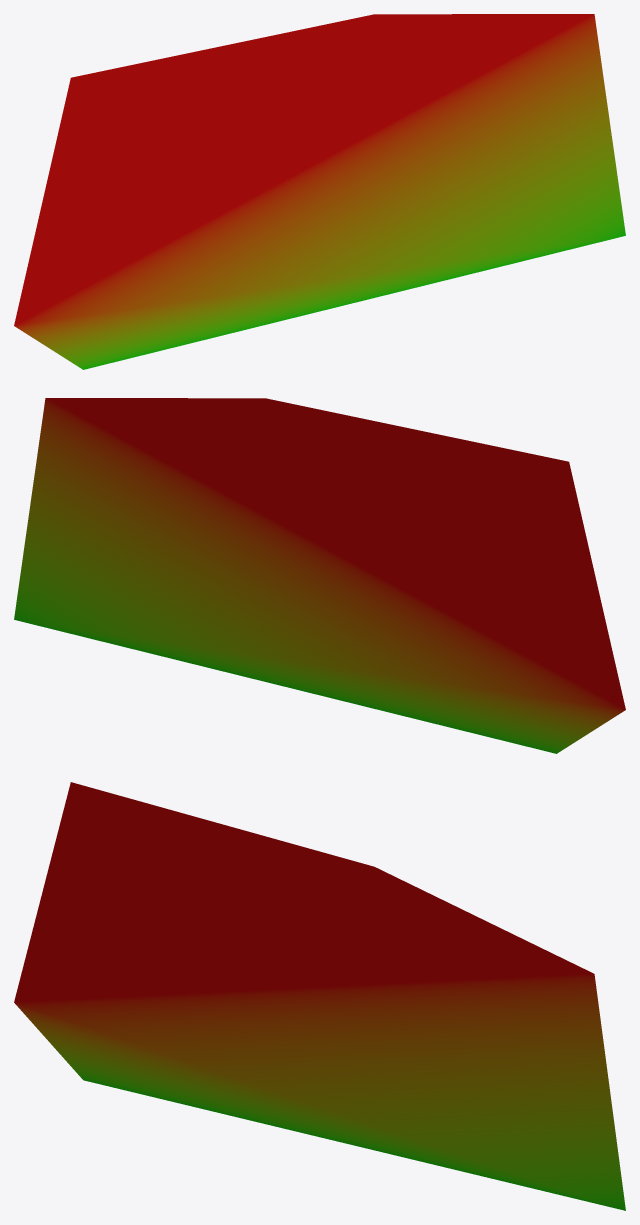
File: Desert Cotton_LOD6_Var8_xeogciyqx.fbx
3 renders of one model, top to bottom at view 1: azimuth 30°, elevation 25°; view 2: azimuth 150°, elevation 25°; view 3: azimuth 330°, elevation 25°, orthographic.
Parts seen in each view (by area): view 1: _ton7_Var8_LOD6; view 2: _ton7_Var8_LOD6; view 3: _ton7_Var8_LOD6.
Part boxes in pixels (<box>): _ton7_Var8_LOD6: <box>14,14,625,369</box>; _ton7_Var8_LOD6: <box>14,398,625,753</box>; _ton7_Var8_LOD6: <box>14,782,625,1210</box>.
Bounding box in the file's own units: 84.79 × 39.09 × 6.37e-06.
